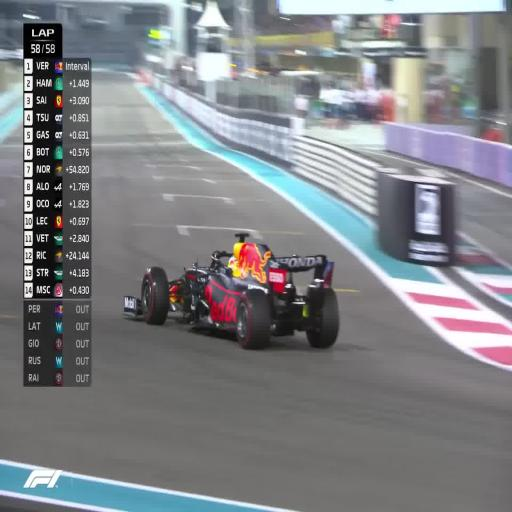f1_car: (123, 233, 339, 348), (173, 314, 175, 315)
